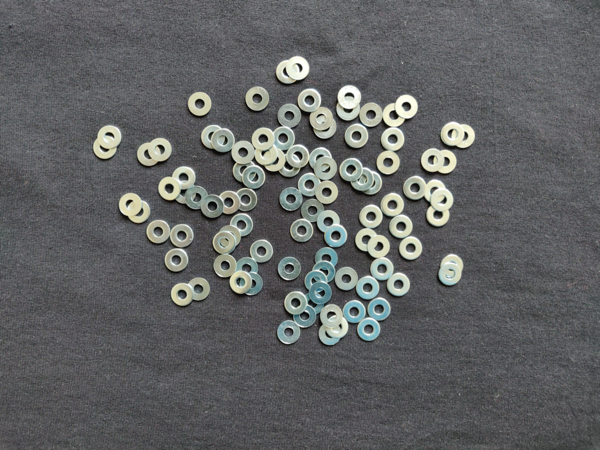circle: (186, 90, 212, 118), (286, 54, 312, 81), (426, 202, 452, 229), (440, 120, 466, 147), (451, 121, 476, 149), (145, 220, 171, 246), (185, 276, 211, 302), (212, 127, 237, 154), (276, 320, 301, 347), (358, 170, 383, 197), (431, 150, 458, 175), (201, 122, 225, 150), (94, 135, 120, 160), (253, 142, 278, 168), (387, 274, 413, 299), (317, 180, 342, 206), (298, 87, 323, 113), (275, 60, 301, 85), (314, 115, 339, 141), (337, 83, 363, 108), (359, 101, 384, 127), (376, 151, 402, 176), (339, 157, 364, 183), (164, 250, 191, 274), (242, 164, 266, 191), (245, 86, 269, 113), (387, 215, 414, 239), (278, 102, 301, 130), (171, 166, 196, 191), (172, 180, 197, 205), (231, 141, 256, 166), (170, 283, 195, 308), (251, 126, 276, 151), (345, 124, 370, 149), (337, 97, 362, 122), (424, 178, 449, 203), (136, 143, 162, 167), (292, 305, 318, 329), (324, 224, 348, 250), (317, 208, 341, 234), (298, 172, 322, 198), (381, 193, 407, 217), (233, 257, 260, 280), (239, 274, 263, 299), (278, 256, 302, 281), (284, 291, 309, 315), (304, 270, 329, 294), (335, 266, 359, 291), (355, 229, 379, 254), (290, 219, 314, 244), (279, 187, 304, 211), (299, 199, 324, 223), (286, 145, 311, 169), (277, 153, 301, 178), (382, 104, 407, 128), (421, 148, 443, 175), (170, 224, 194, 248), (229, 271, 253, 295), (250, 240, 274, 264), (321, 304, 345, 328), (313, 157, 337, 181), (309, 146, 333, 170), (396, 95, 420, 119), (382, 128, 406, 152), (350, 168, 374, 192), (439, 264, 463, 288), (219, 224, 242, 249), (325, 316, 350, 339), (357, 318, 382, 341), (357, 276, 380, 301), (368, 235, 391, 260), (96, 127, 122, 149), (231, 160, 257, 182), (311, 262, 337, 284), (318, 325, 344, 347), (235, 188, 258, 212), (214, 255, 238, 278), (213, 232, 237, 255), (301, 293, 324, 317), (343, 300, 366, 324), (368, 298, 391, 322), (310, 107, 333, 131), (400, 236, 423, 260), (360, 205, 384, 228), (404, 176, 427, 200), (432, 188, 455, 212), (148, 139, 173, 161), (308, 283, 334, 304), (263, 150, 286, 173), (371, 258, 394, 281), (159, 178, 181, 202), (201, 195, 223, 219), (232, 214, 254, 238), (441, 254, 465, 276), (271, 128, 296, 149), (119, 195, 142, 217), (185, 188, 208, 210), (127, 202, 151, 223), (315, 248, 339, 269), (220, 191, 239, 215)
